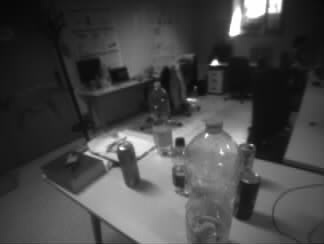Bottle: (186, 120, 237, 244), (150, 83, 171, 152), (172, 138, 186, 191)
Tin can: (117, 141, 139, 187), (238, 173, 258, 221), (239, 142, 254, 171)
